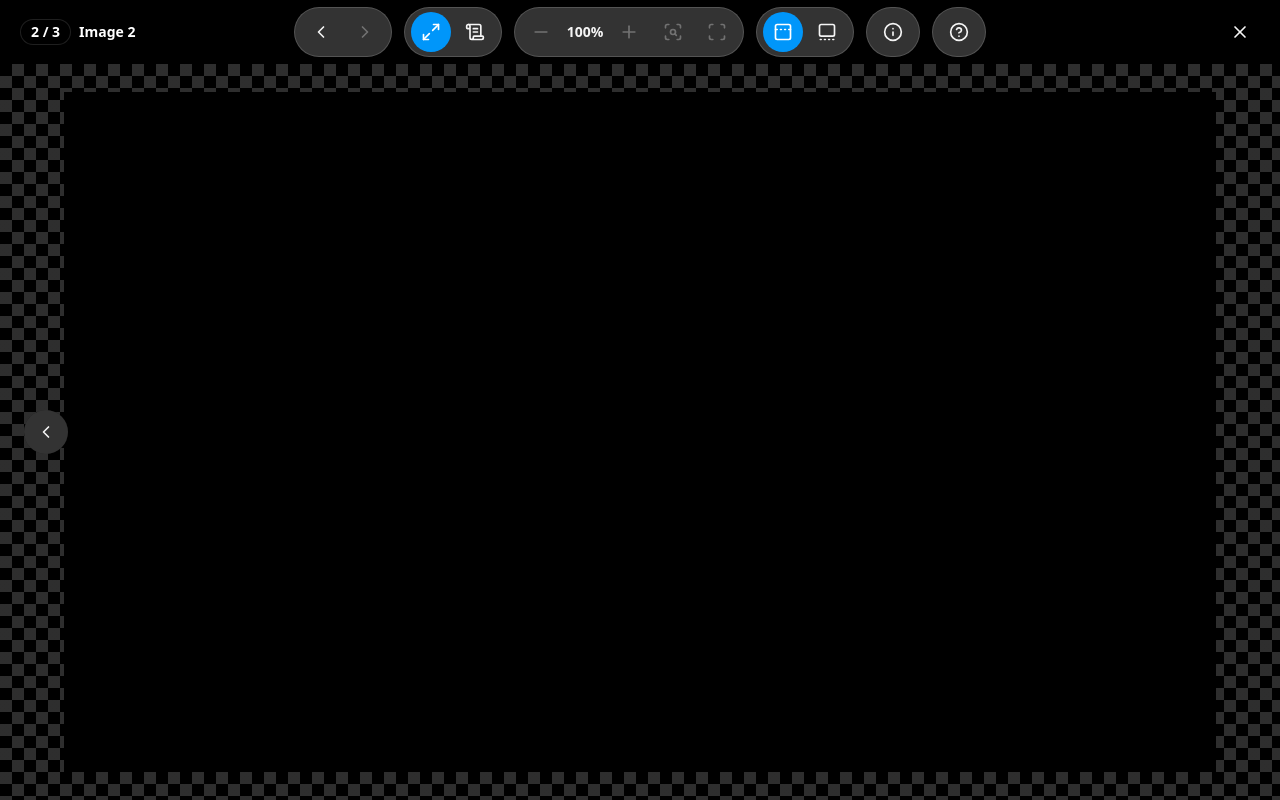
Test case: FullscreenViewer regression › documents video gestures in the fullscreen shortcut help
Click the button named "顯示全螢幕快捷鍵" at (959, 32), box [939,12,979,52]
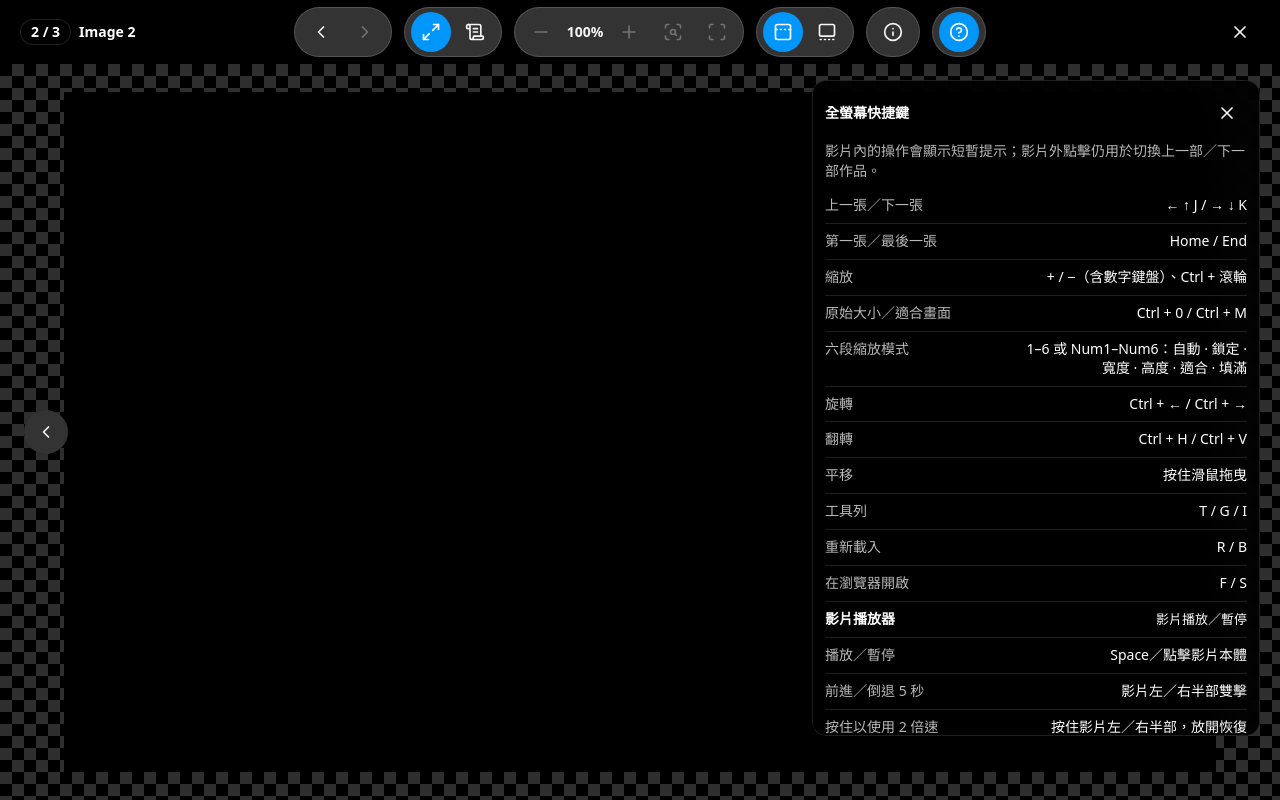
expect the element with id "fullscreen-shortcut-help" shows "影片播放器": met, box [825,609,895,628]
expect the element with id "fullscreen-shortcut-help" shows "左／右半部雙擊": met, box [1121,681,1247,700]
expect the element with id "fullscreen-shortcut-help" shows "2 倍速": met, box [825,716,938,736]
